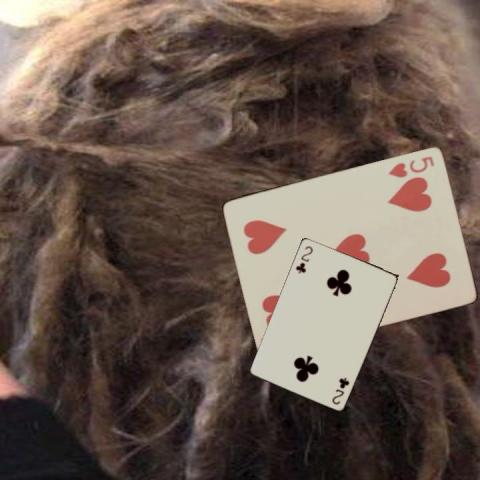2c: (293, 243, 314, 274), (330, 374, 350, 406)
5h: (386, 152, 436, 178)
